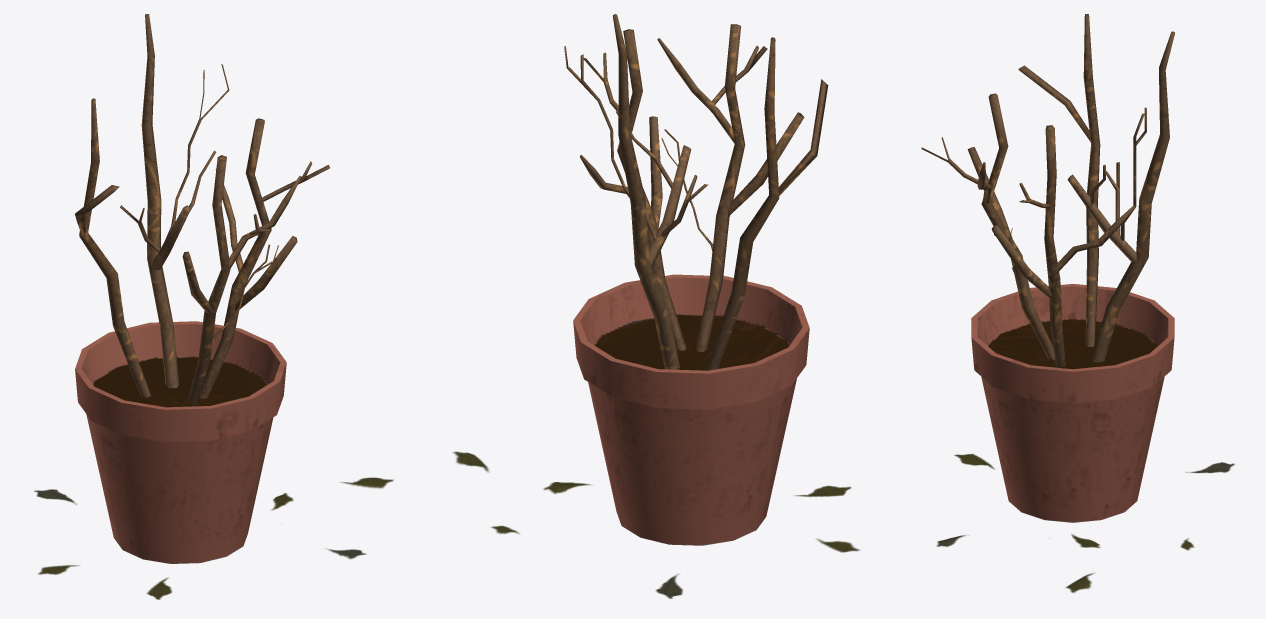
Rendered from dead_plant.glb.
3 renders of one model, left to right at view 1: azimuth 30°, elevation 25°; view 2: azimuth 150°, elevation 25°; view 3: azimuth 270°, elevation 25°, orthographic. The views are drawn at different scales.
Parts seen in each view (by area): view 1: Cylinder002; view 2: Cylinder002; view 3: Cylinder002.
Part boxes in pixels (bbox=[...]): Cylinder002: bbox=[34, 14, 393, 599]; Cylinder002: bbox=[453, 14, 859, 598]; Cylinder002: bbox=[921, 14, 1234, 592].
Bounding box in the file's own units: 69.43 × 82.81 × 53.97.
Materials: 1 (1 with a texture image).
